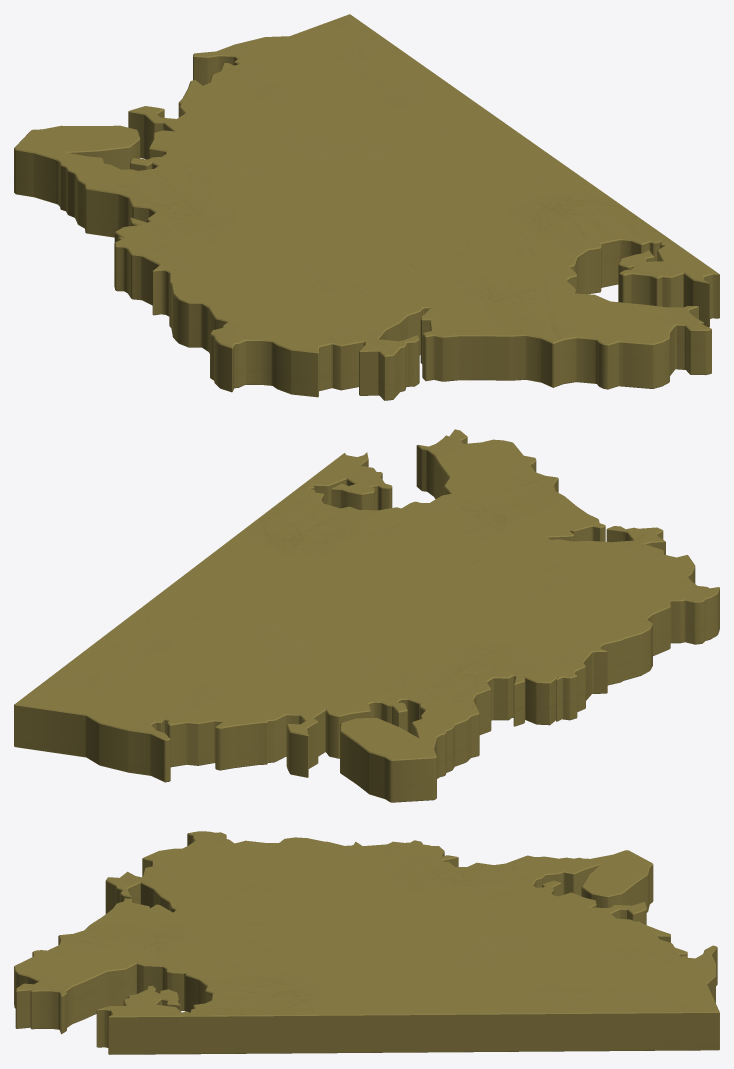
Rendered from russia.DAE.
The picture shows the model from 3 angles, top to bottom: view 1: azimuth 30°, elevation 25°; view 2: azimuth 150°, elevation 25°; view 3: azimuth 270°, elevation 25°; orthographic projection. The views are drawn at different scales.
Visible parts, largest first — view 1: Russia; view 2: Russia; view 3: Russia.
Boxes of the visible parts, x1,y1,x2,y2 form: Russia: (14,14,719,400); Russia: (14,429,719,802); Russia: (14,831,719,1054).
Size of the model in its own units: 258 by 414 by 25.
1 material, 1 textured.
